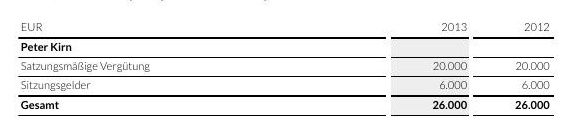table: (0, 0, 569, 139)
